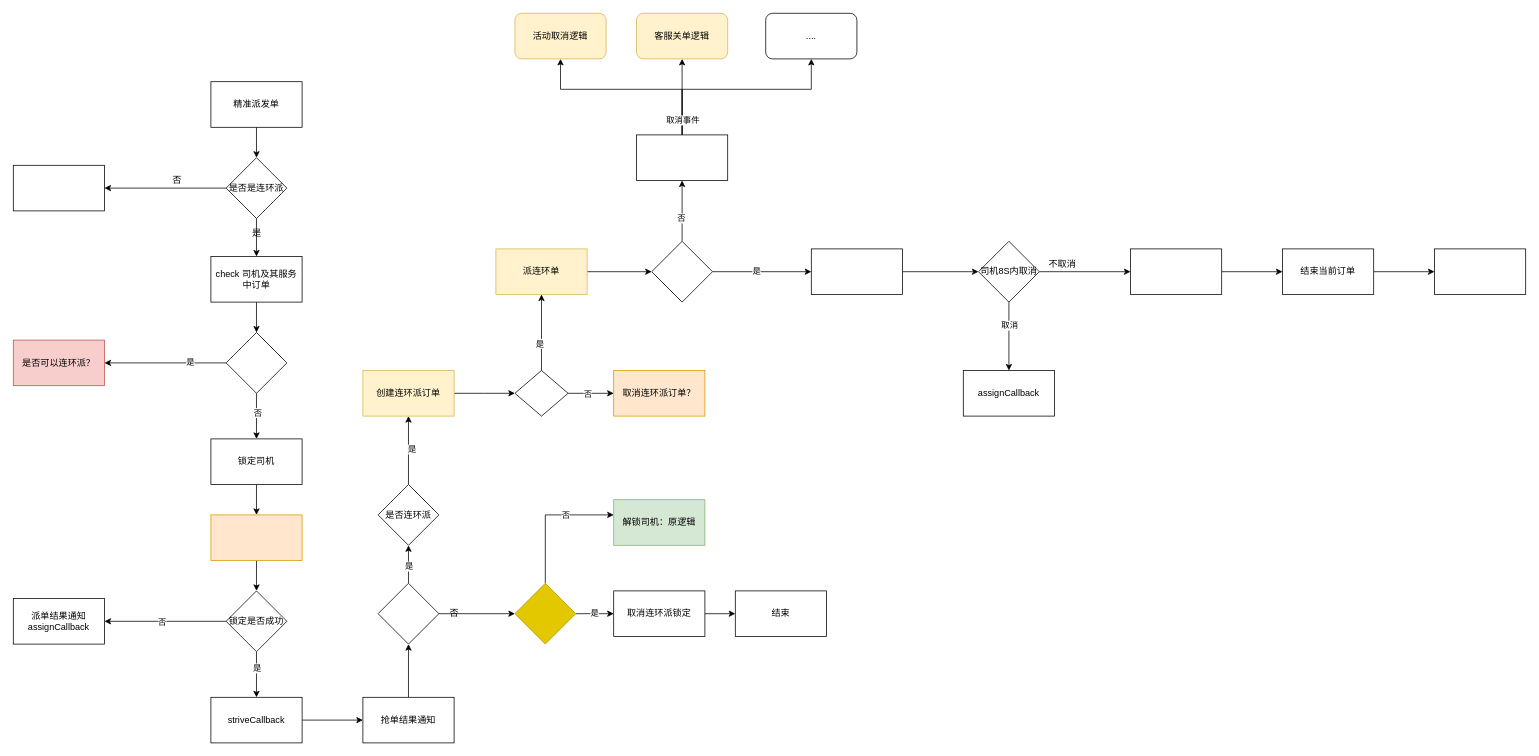
Image size: 1539x756. Some labels were removed from this diagram. Each missing label, with the centre of its shape:
创建成功？: the point at 541,393
判定是否连环派？: the point at 545,613
原精准派逻辑: the point at 58,188
当前订单为其他流量: the point at 256,362
是否成功: the point at 408,613
更新连环单为当前服务中订单: the point at 1480,271
派单失败，系统取消: the point at 682,157
派单成功: the point at 681,271
消息送达: the point at 856,271
连环派单，待服务？: the point at 1176,271
锁定连环派单：时效: the point at 256,537
